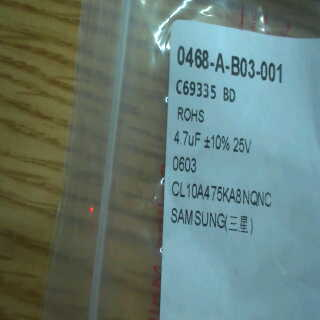4.7uF: (171, 127, 205, 153)
